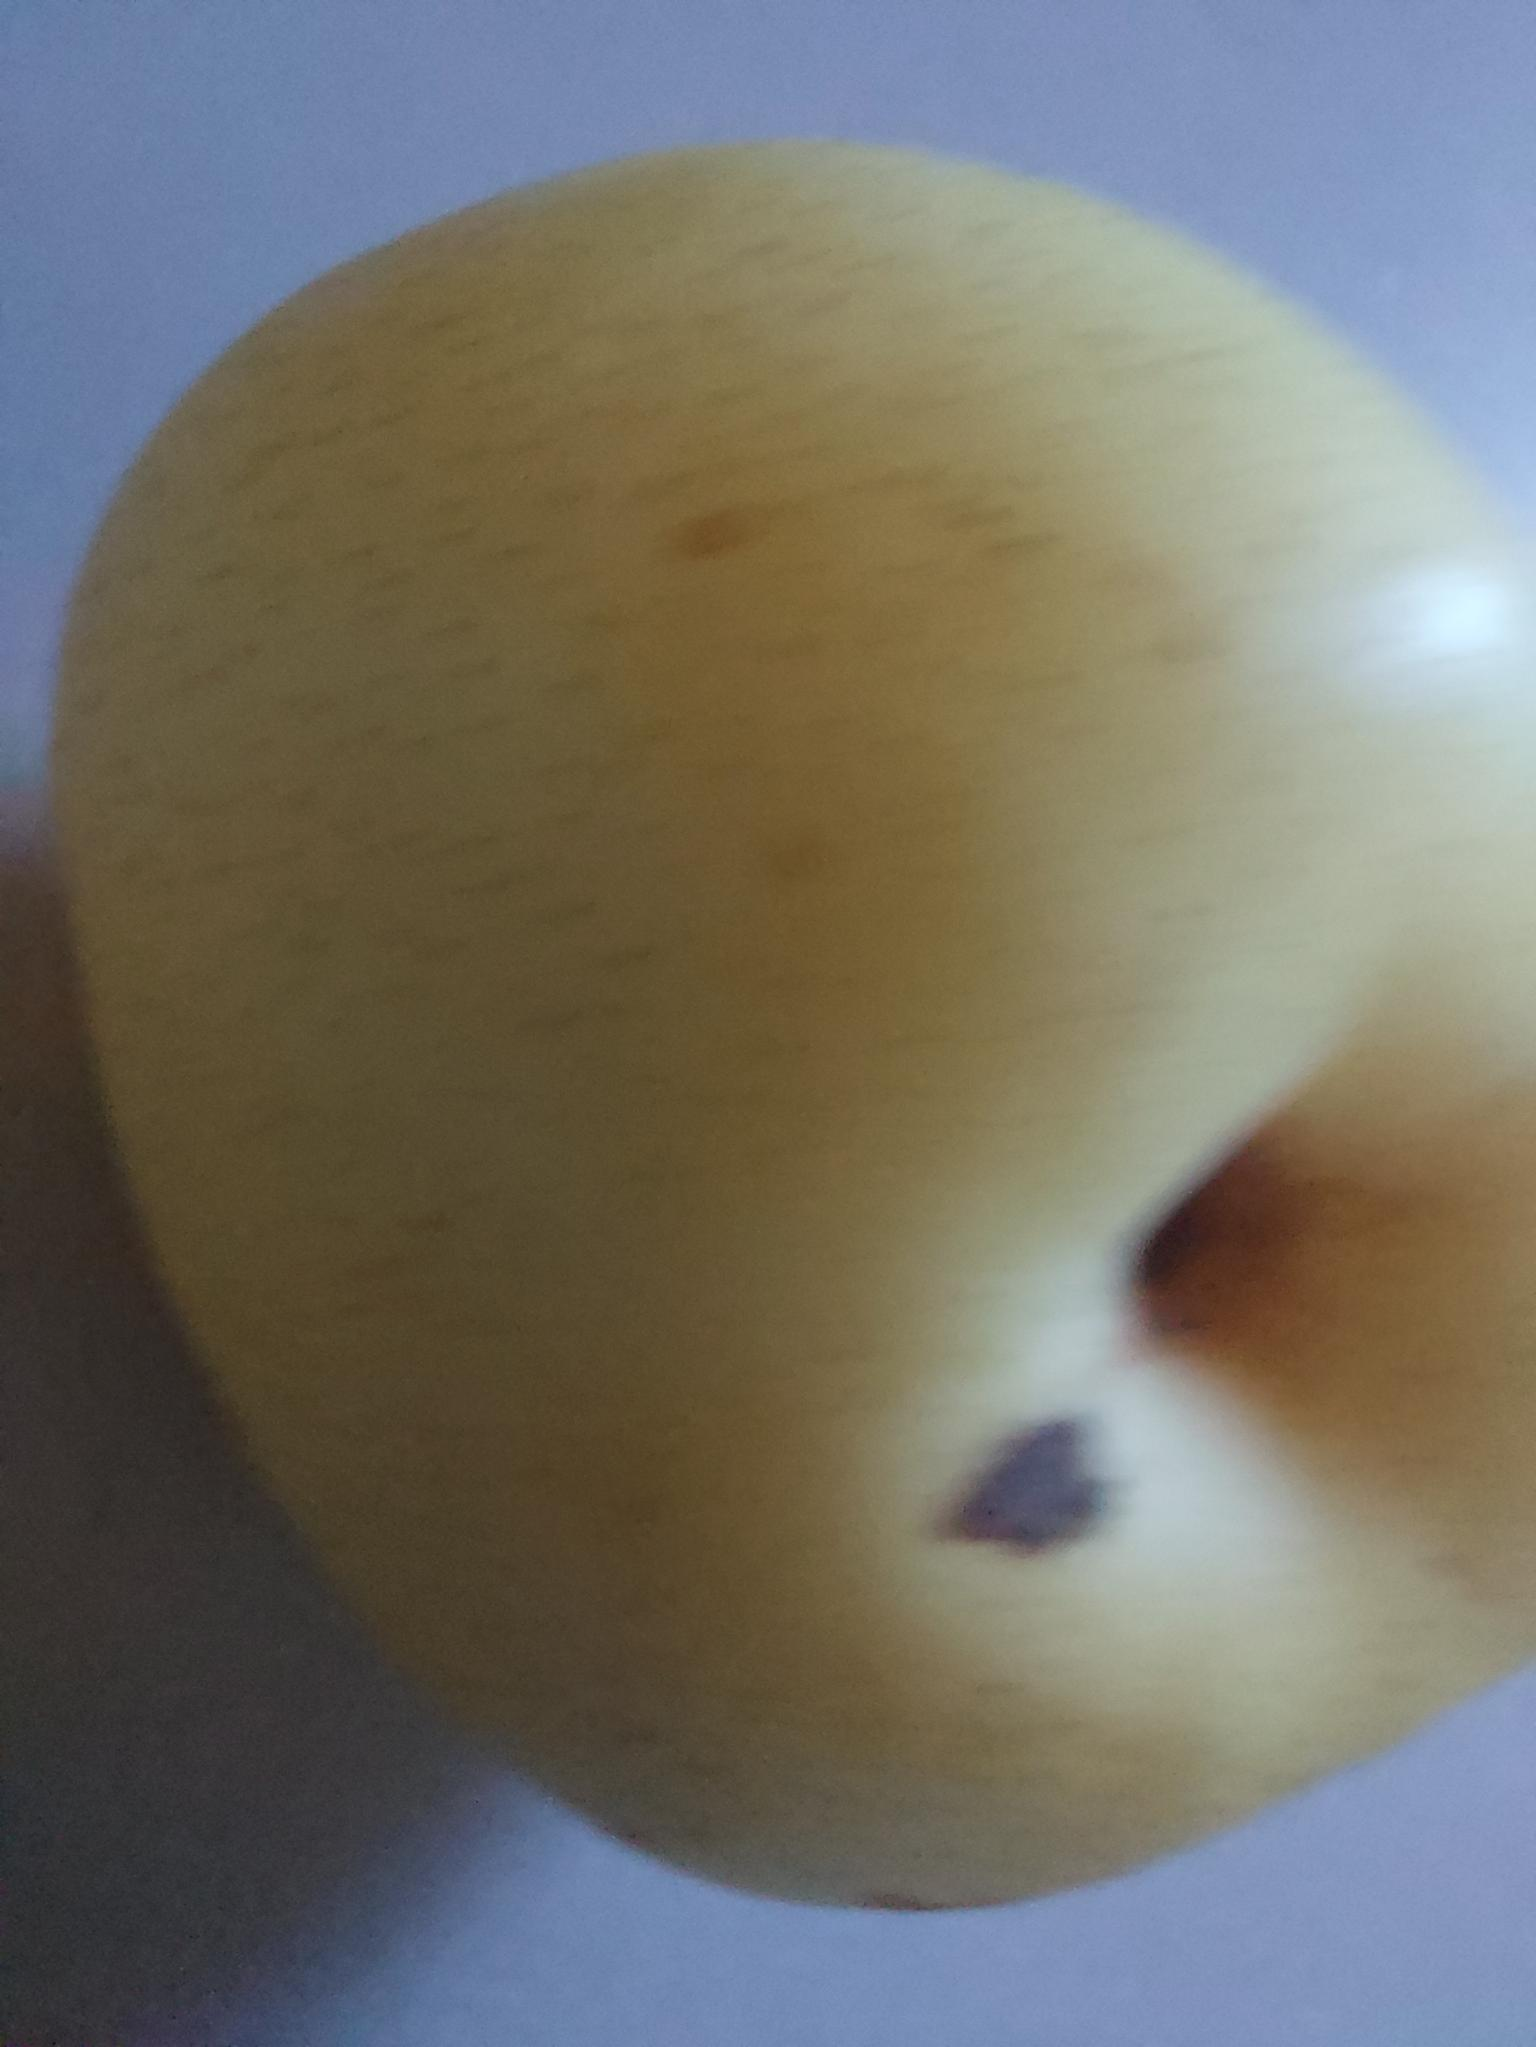Good Pear: (35, 113, 1536, 1916)
